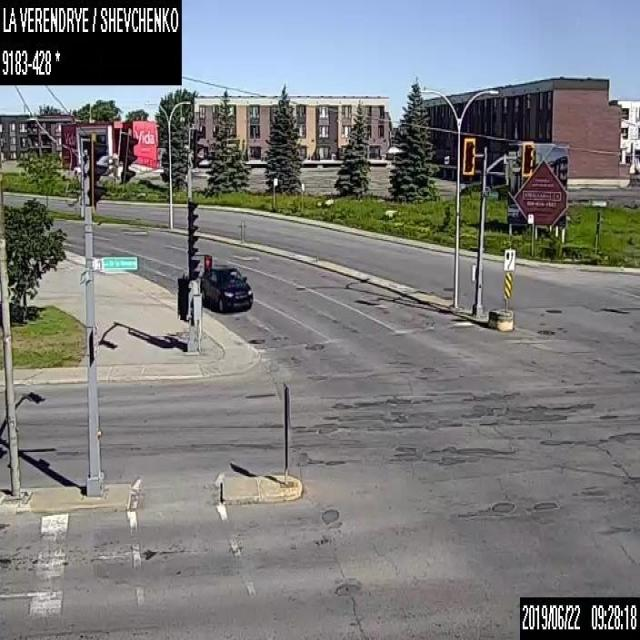vehicle: (199, 261, 253, 312)
